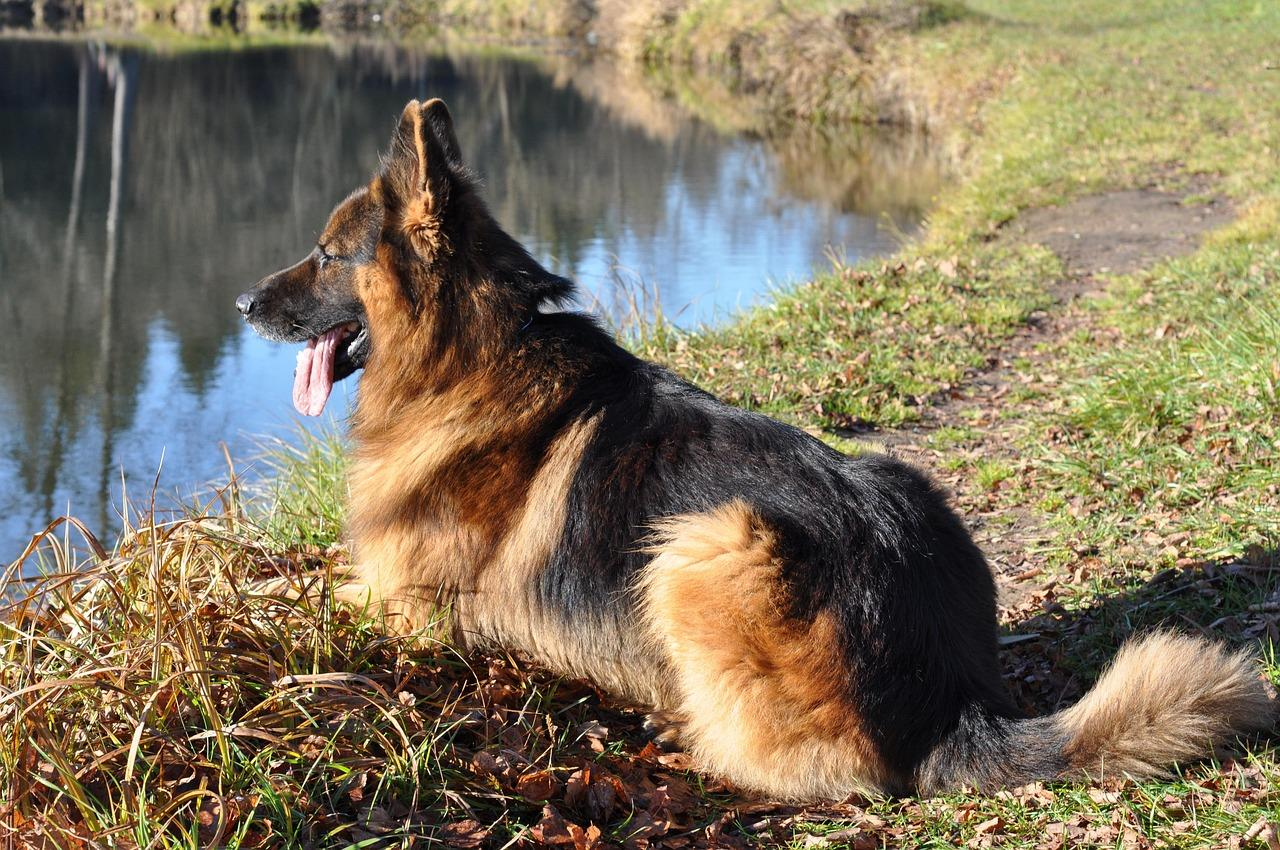german_shepherd: (214, 99, 489, 412)
